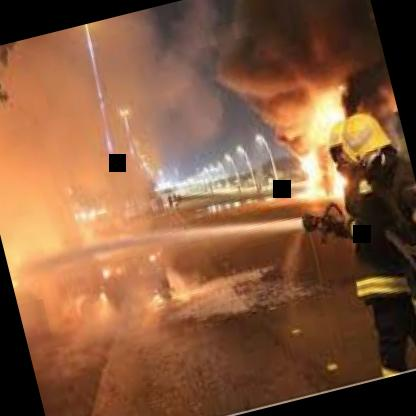fire: (253, 29, 416, 249), (0, 117, 143, 342)
